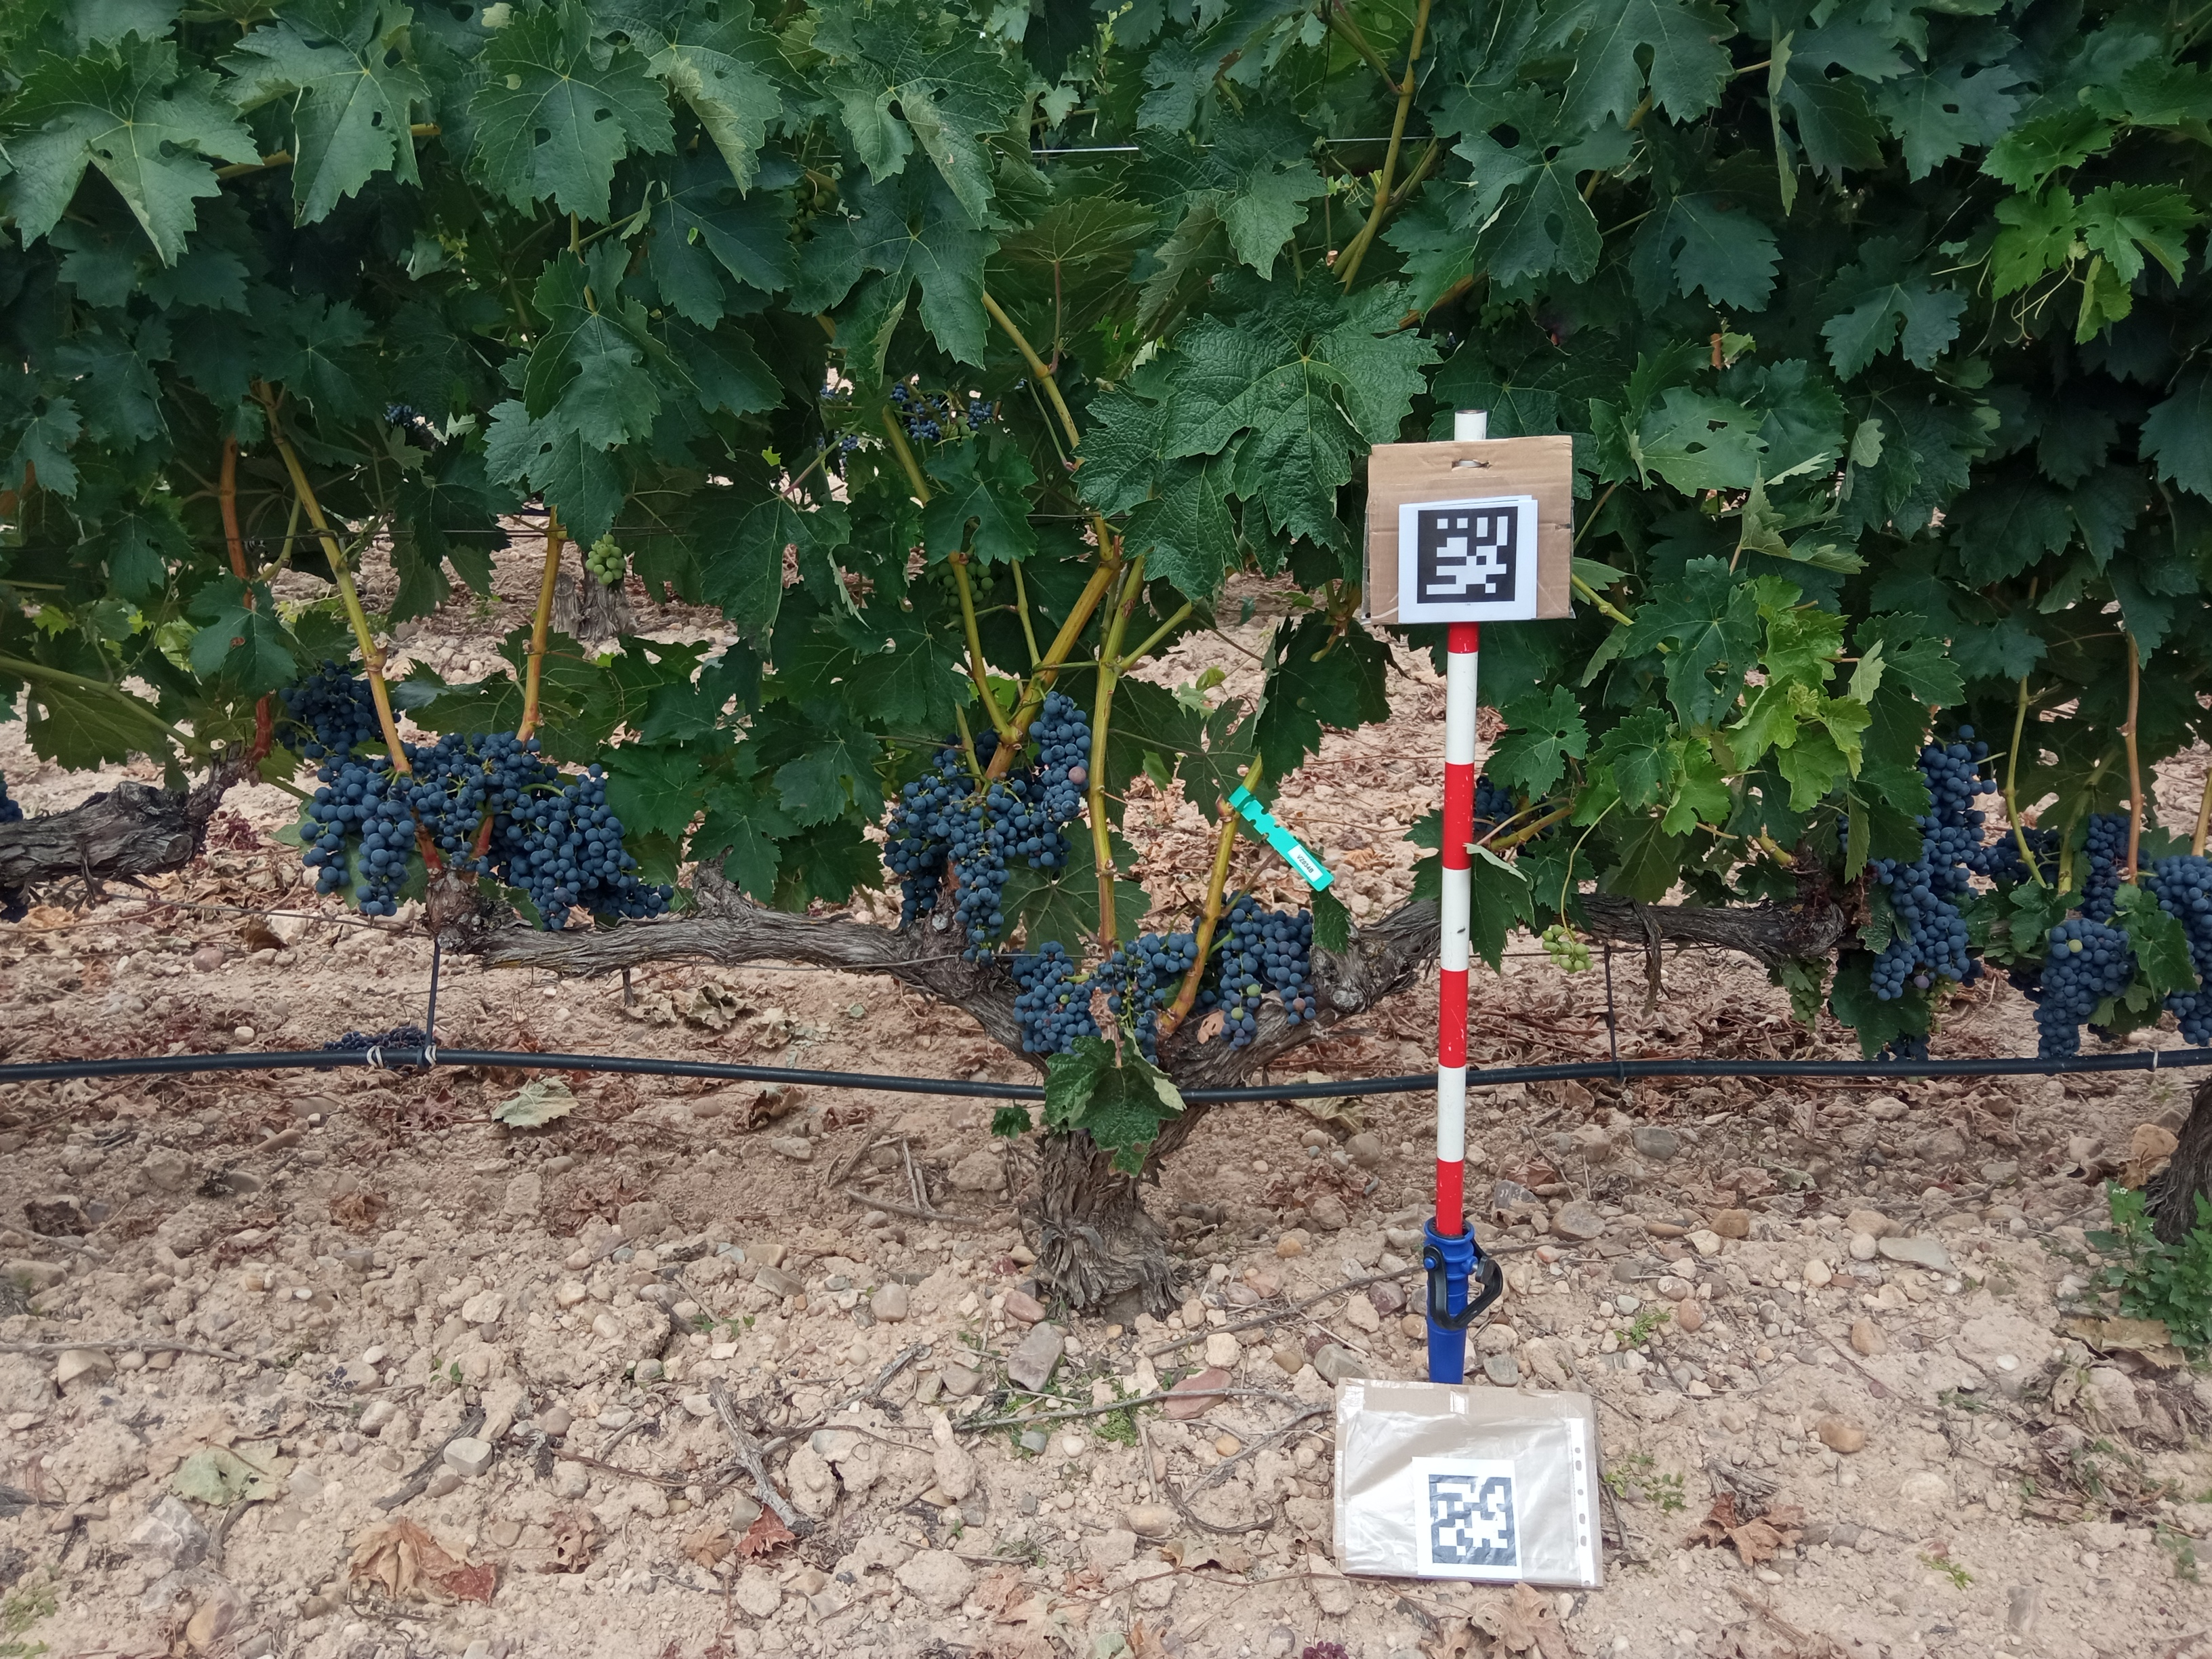grapes: (502, 762, 678, 932), (2029, 913, 2142, 1079), (1865, 852, 1982, 1004), (1085, 929, 1198, 1068), (1912, 720, 1998, 903), (1216, 903, 1318, 1051), (273, 652, 404, 758), (2142, 849, 2212, 1047), (472, 727, 559, 878), (932, 793, 1007, 967), (1000, 939, 1104, 1060), (402, 732, 488, 868), (296, 748, 371, 897), (1028, 688, 1097, 828), (979, 774, 1075, 873), (885, 779, 948, 931), (2073, 807, 2151, 924), (354, 775, 416, 918), (1970, 826, 2064, 897), (932, 728, 1042, 789), (1778, 951, 1832, 1037), (1191, 887, 1264, 936), (1876, 1025, 1933, 1086), (935, 554, 996, 610), (1538, 920, 1595, 976), (784, 178, 827, 249), (580, 530, 629, 589), (1472, 772, 1515, 838), (2001, 960, 2043, 1004), (0, 767, 26, 829), (1477, 296, 1519, 333), (0, 882, 33, 924), (939, 415, 981, 446), (1832, 805, 1851, 864), (1527, 802, 1557, 836)
